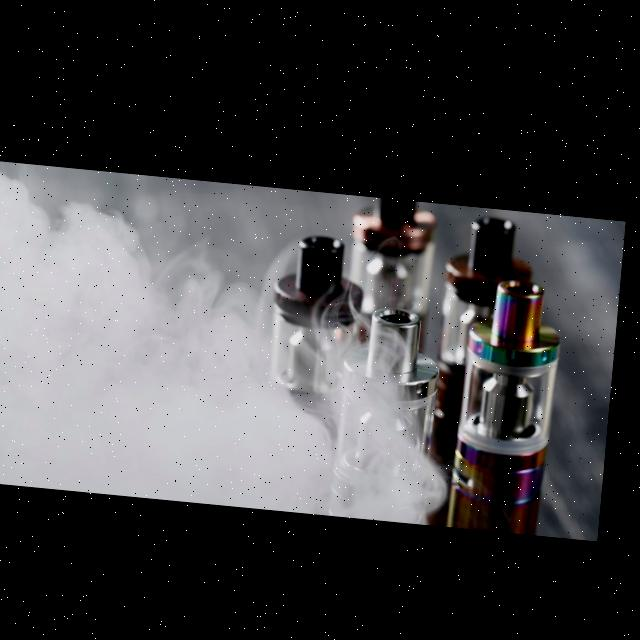vape: (454, 265, 568, 524), (436, 203, 541, 458), (336, 296, 447, 515), (270, 225, 373, 431), (349, 188, 441, 352)
